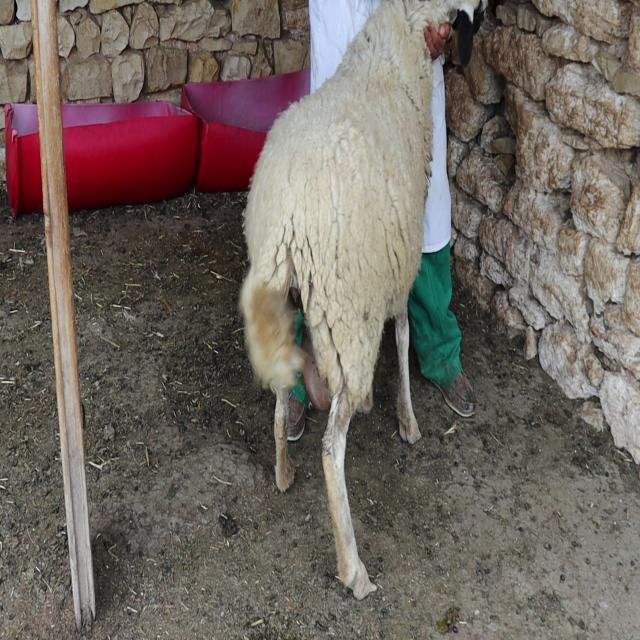Score_4: (240, 0, 479, 599)
